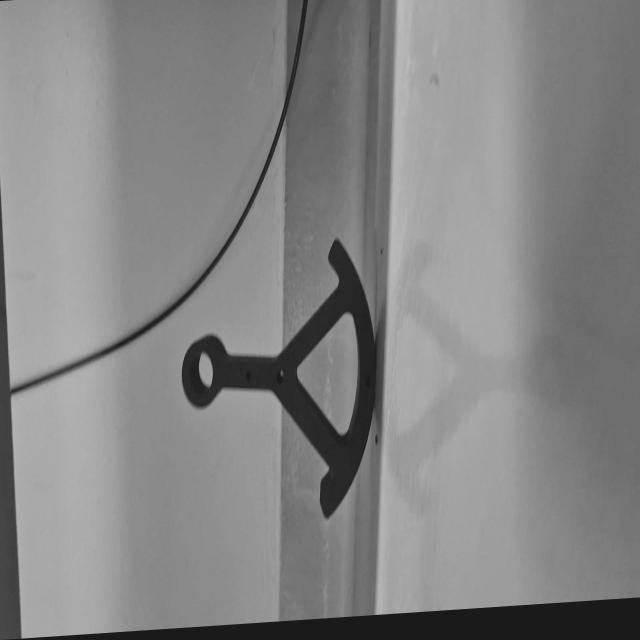haptic: (180, 232, 377, 530)
